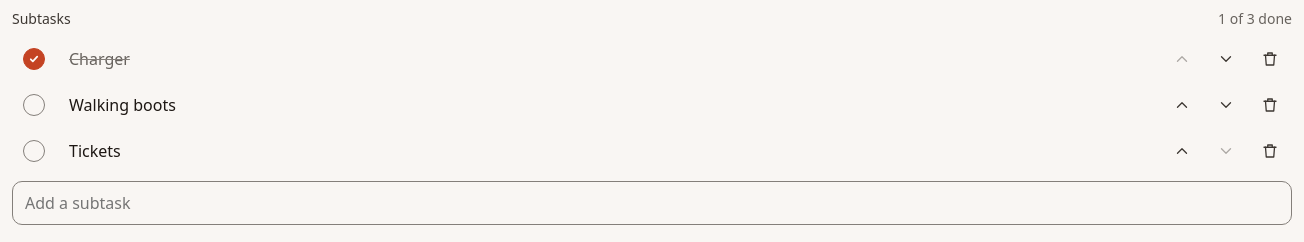
SubtaskList › toggles a subtask optimistically
The width and height of the screenshot is (1304, 242).
Click the checkbox named "Complete Tickets".
click(34, 151)  # box [12, 129, 56, 173]
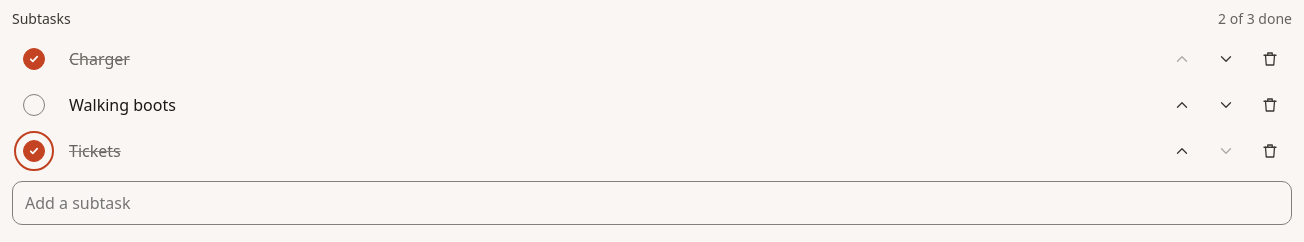
Expected: the text "2 of 3 done" is shown, [1218, 8, 1292, 29]
